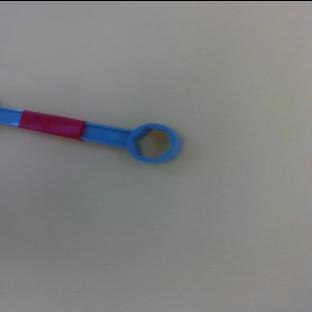part_3_good: (0, 106, 185, 165)
